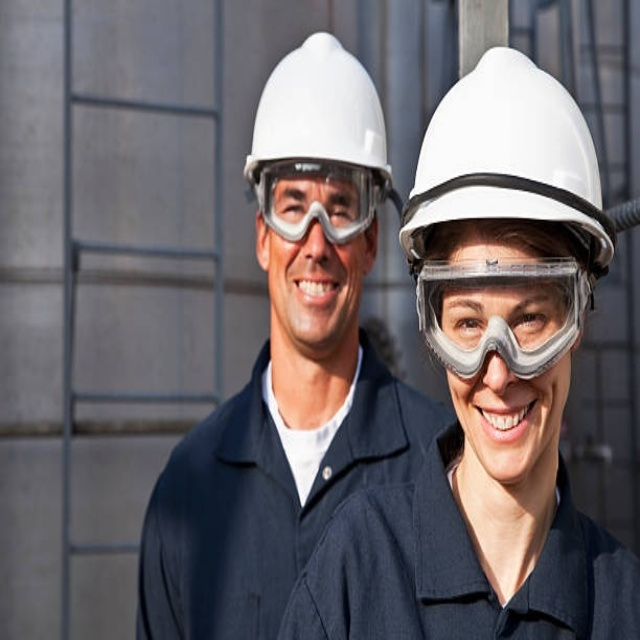Gafas: (412, 260, 589, 383), (250, 160, 379, 243)
Sin_mascara: (458, 389, 544, 472), (276, 260, 341, 334)
